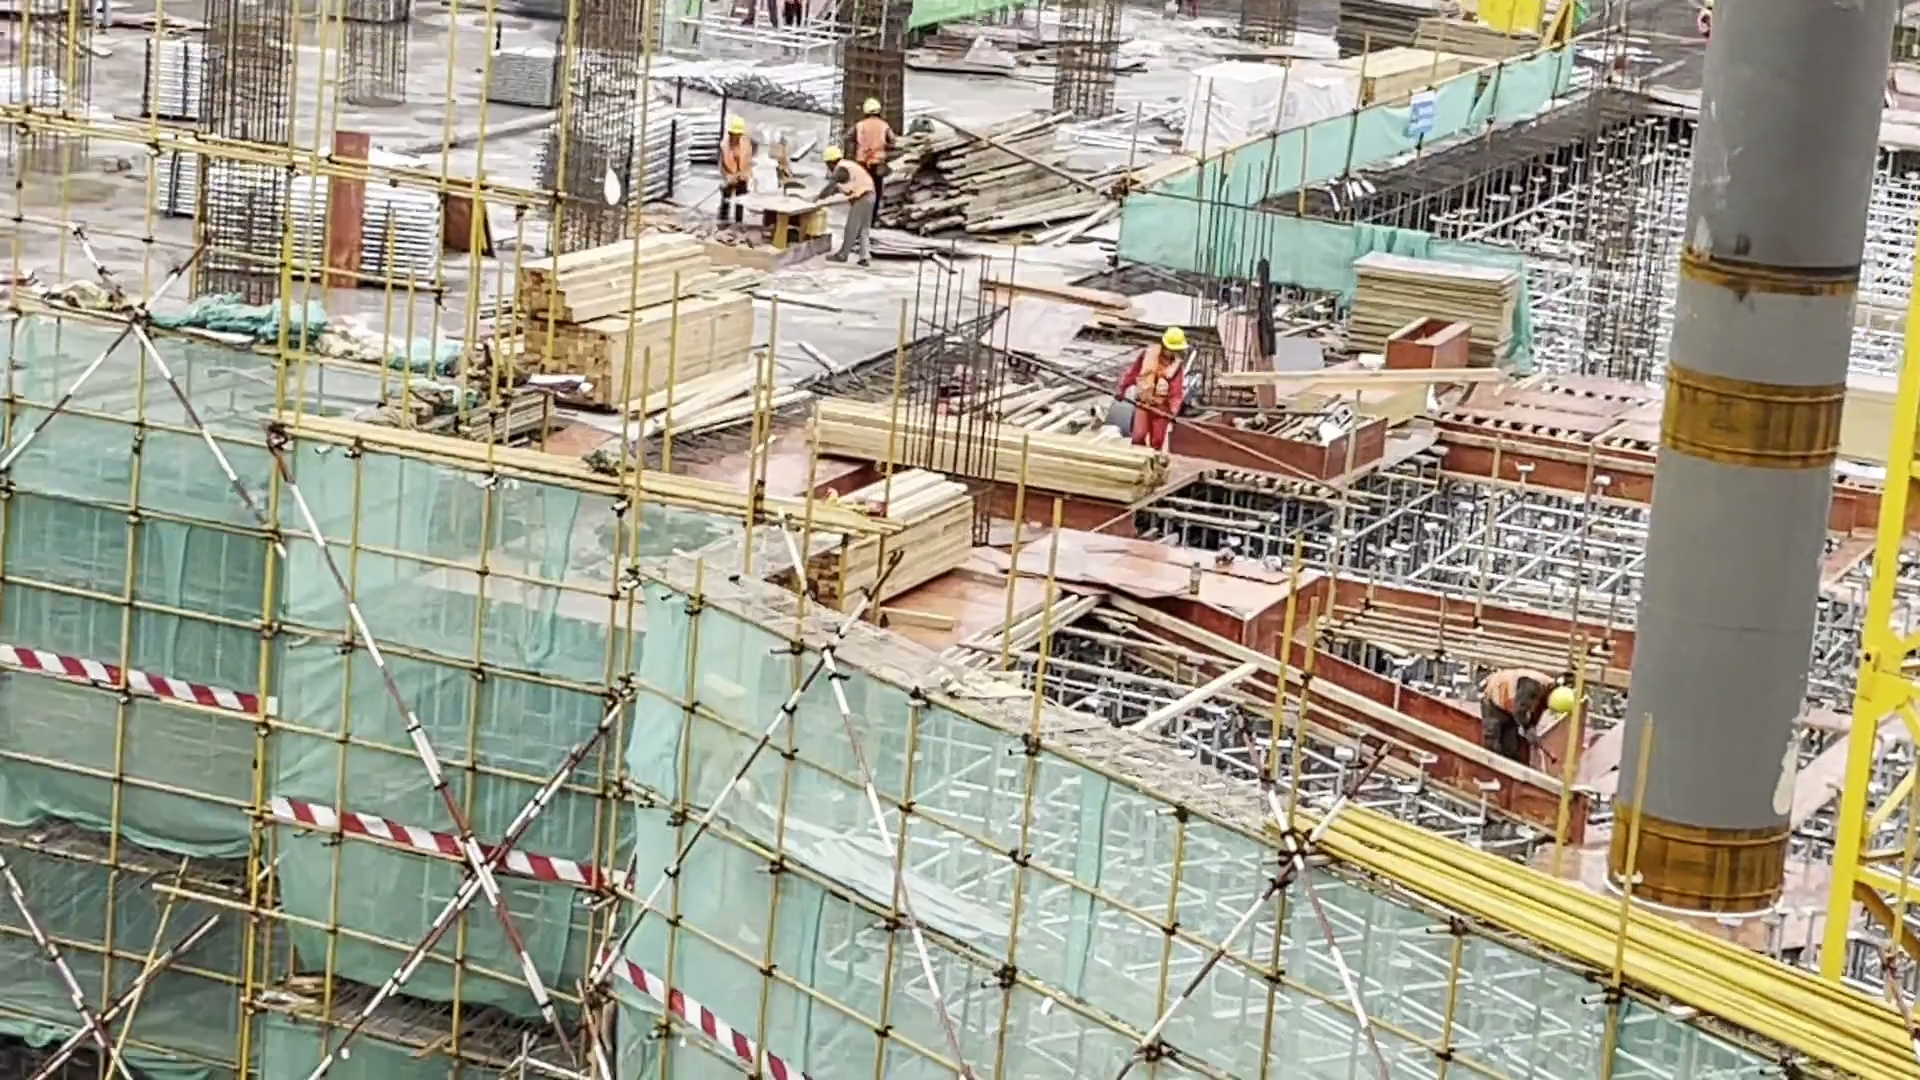helmet: (1548, 671, 1583, 725), (1162, 316, 1188, 356), (813, 137, 846, 164), (718, 113, 750, 138), (863, 89, 885, 116)
person: (1477, 644, 1574, 771), (1116, 311, 1192, 445), (810, 146, 873, 273), (836, 92, 902, 191), (708, 114, 755, 235)
scaffold: (149, 145, 445, 280), (133, 28, 298, 136), (535, 117, 696, 208), (662, 59, 846, 116), (474, 44, 575, 120)
vest: (1484, 662, 1548, 731), (1136, 346, 1182, 412), (712, 138, 751, 195), (830, 166, 875, 206), (856, 120, 894, 161)
wood: (513, 236, 755, 401), (814, 396, 1150, 498), (814, 466, 965, 610)
